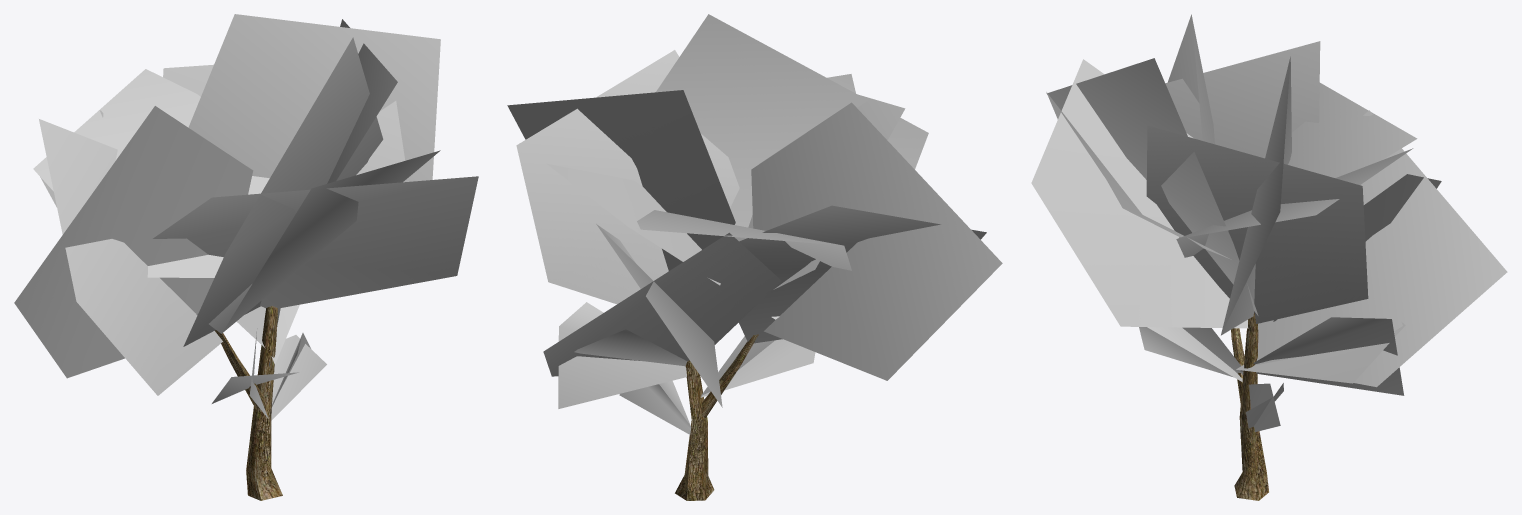
File: tree 5.FBX
The picture shows the model from 3 angles, left to right: view 1: azimuth 30°, elevation 25°; view 2: azimuth 150°, elevation 25°; view 3: azimuth 270°, elevation 25°; orthographic projection. The views are drawn at different scales.
Parts seen in each view (by area): view 1: MepTree3_32; view 2: MepTree3_32; view 3: MepTree3_32.
Part boxes in pixels (x1,y1,x2,y2): MepTree3_32: (14,14,478,500); MepTree3_32: (507,14,1002,500); MepTree3_32: (1031,14,1507,500).
Bounding box in the file's own units: 189 × 180 × 172.
